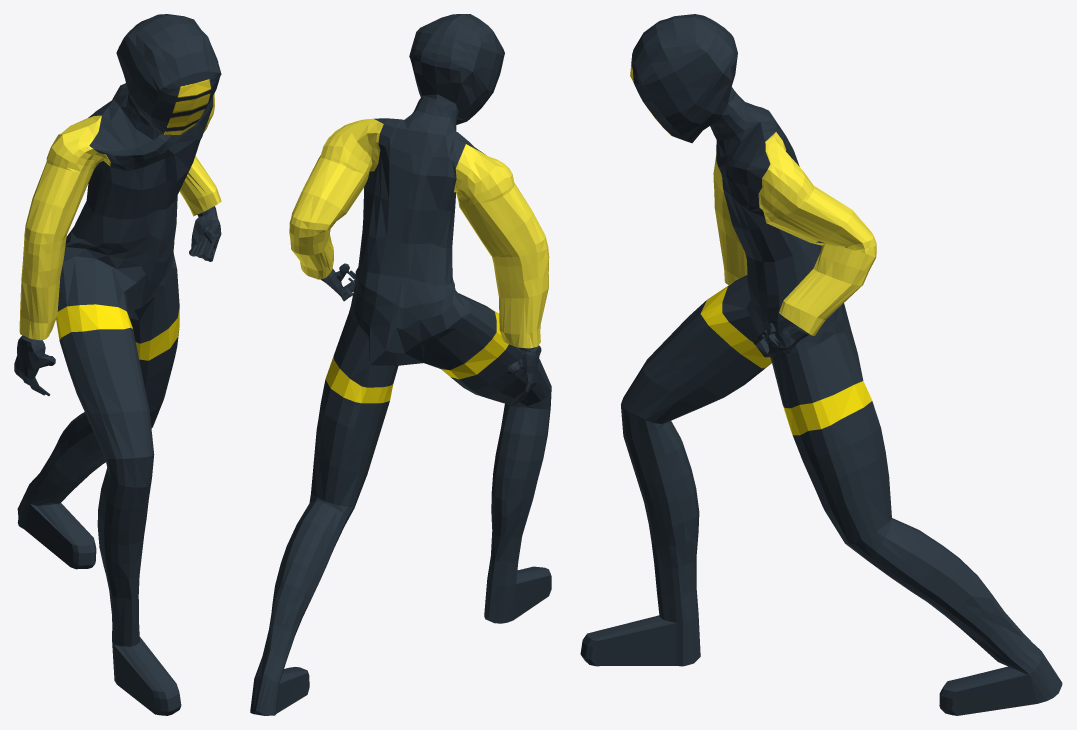
File: Sentry_Stun_000009.obj
The picture shows the model from 3 angles, left to right: view 1: azimuth 30°, elevation 25°; view 2: azimuth 150°, elevation 25°; view 3: azimuth 270°, elevation 25°; orthographic projection. The views are drawn at different scales.
Parts seen in each view (by area): view 1: Cube; view 2: Cube; view 3: Cube.
Boxes of the visible parts, bbox=[...] form: Cube: bbox=[14, 14, 221, 715]; Cube: bbox=[250, 14, 551, 715]; Cube: bbox=[580, 14, 1062, 715].
Size of the model in its own units: 1.27 by 3.42 by 2.23.
